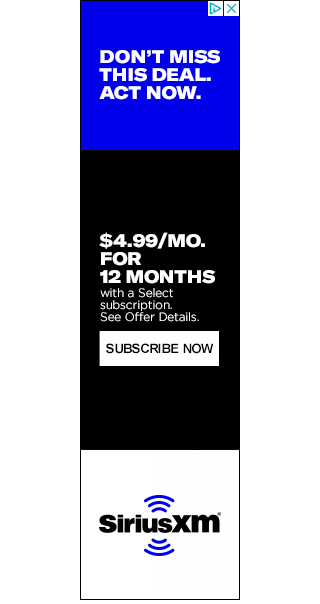fake_button: (94, 325, 227, 378), (198, 0, 242, 30)
